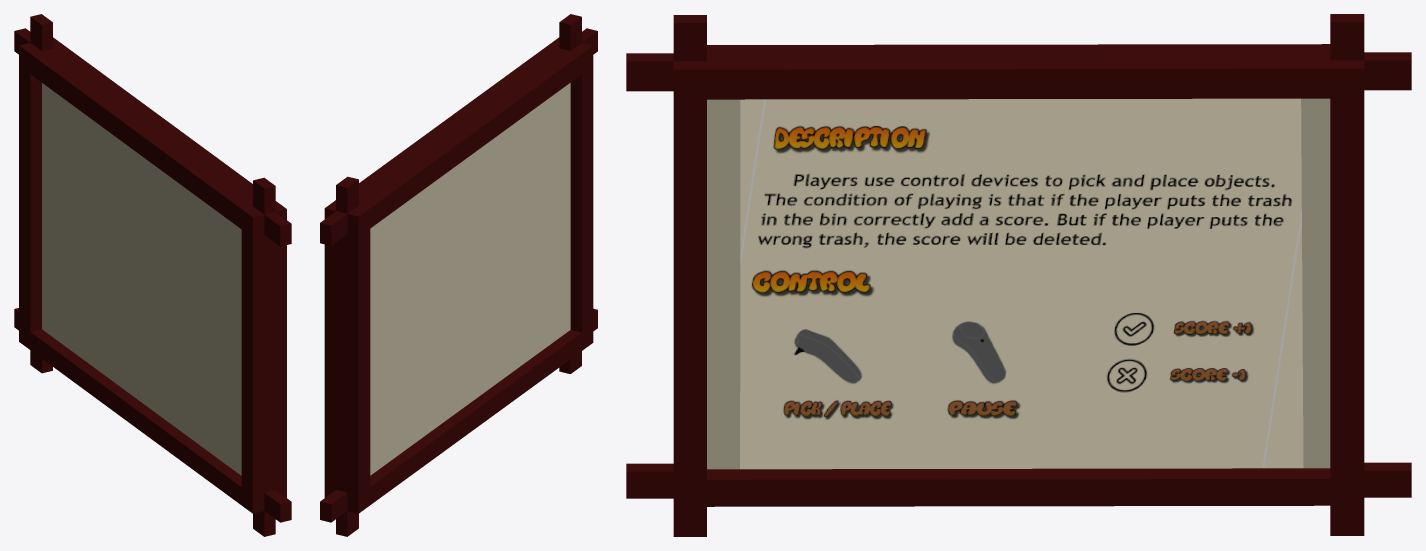
File: howto_info4.fbx
3 renders of one model, left to right at view 1: azimuth 30°, elevation 25°; view 2: azimuth 150°, elevation 25°; view 3: azimuth 270°, elevation 25°, orthographic. The views are drawn at different scales.
Visible parts, largest first — view 1: sign_info2; view 2: sign_info2; view 3: sign_info2.
Boxes of the visible parts, x1=… form: sign_info2: x1=14, y1=14, x2=291, y2=536; sign_info2: x1=320, y1=14, x2=597, y2=536; sign_info2: x1=626, y1=14, x2=1411, y2=536.
Bounding box in the file's own units: 0.7015 × 6.86 × 9.49.
3 materials, 1 textured.
